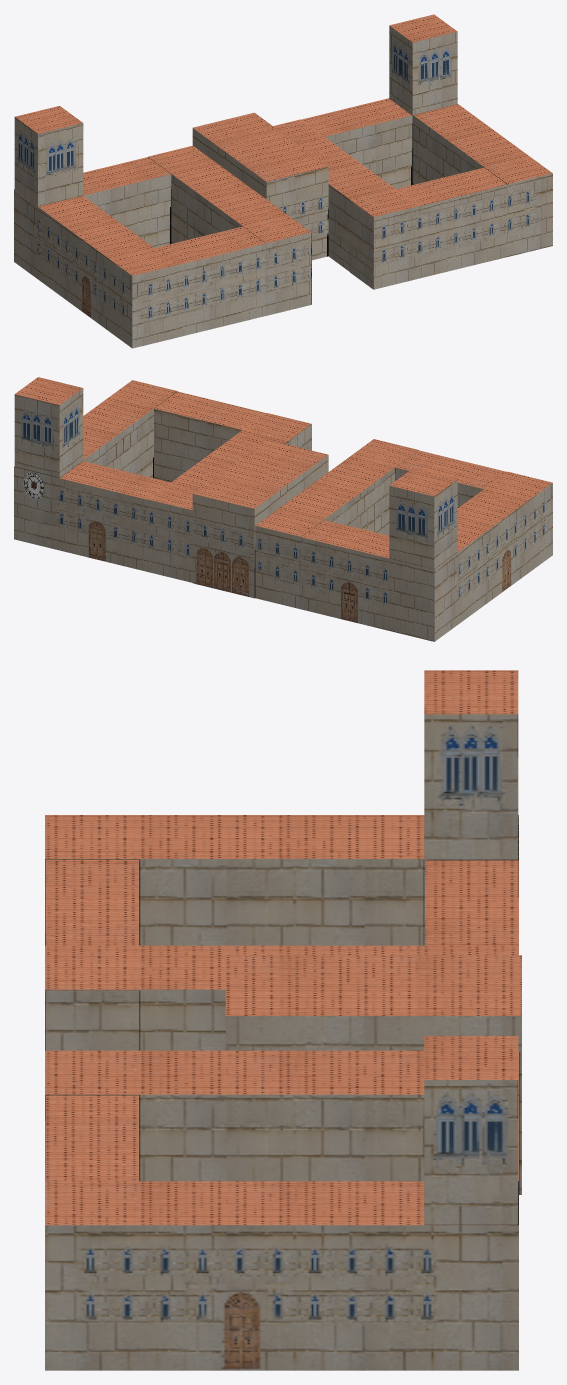
Rendered from universitatlvl1maxhealth.fbx.
The picture shows the model from 3 angles, top to bottom: view 1: azimuth 30°, elevation 25°; view 2: azimuth 150°, elevation 25°; view 3: azimuth 270°, elevation 25°; orthographic projection. The views are drawn at different scales.
Parts seen in each view (by area): view 1: EntradaCentro.006; view 2: EntradaCentro.006; view 3: EntradaCentro.006.
Part boxes in pixels (x1,y1,x2,y2): EntradaCentro.006: (14, 14, 552, 348); EntradaCentro.006: (14, 377, 552, 641); EntradaCentro.006: (45, 670, 521, 1370).
Size of the model in its own units: 7867 by 2595 by 3863.
